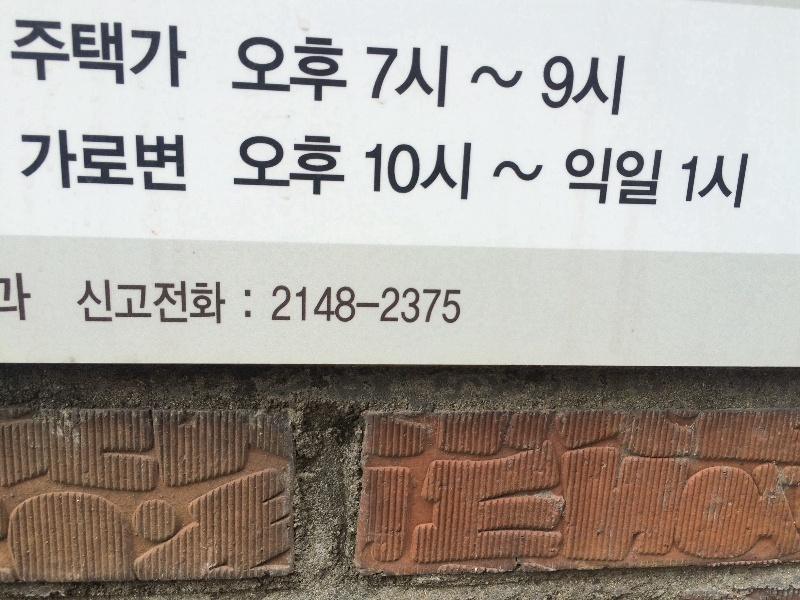text: (241, 29, 256, 105), (257, 29, 272, 105), (273, 29, 288, 105), (289, 29, 304, 105), (305, 29, 320, 105), (321, 29, 336, 105), (369, 43, 384, 117), (385, 43, 400, 117), (401, 43, 416, 117), (417, 43, 432, 117), (433, 43, 448, 117), (449, 43, 464, 117), (465, 43, 480, 117), (481, 43, 496, 117), (497, 43, 512, 117), (513, 43, 528, 117), (529, 43, 544, 117), (545, 43, 560, 117), (561, 43, 576, 117), (577, 43, 592, 117), (593, 43, 608, 117), (609, 43, 624, 117), (17, 19, 32, 91), (33, 19, 48, 91), (49, 19, 64, 91), (65, 19, 80, 91), (81, 19, 96, 91), (97, 19, 112, 91), (113, 19, 128, 91), (129, 19, 144, 91), (145, 19, 160, 91), (161, 19, 176, 91), (369, 141, 384, 212), (385, 141, 400, 212), (401, 141, 416, 212), (417, 141, 432, 212), (433, 141, 448, 212), (449, 141, 464, 212), (465, 141, 480, 212), (481, 141, 496, 212), (497, 141, 512, 212), (513, 141, 528, 212), (529, 141, 544, 212), (545, 141, 560, 212), (561, 141, 576, 212), (577, 141, 592, 212), (593, 141, 608, 212), (609, 141, 624, 212), (625, 141, 640, 212), (641, 141, 656, 212), (657, 141, 672, 212), (673, 141, 688, 212), (689, 141, 704, 212), (705, 141, 720, 212), (721, 141, 736, 212), (737, 141, 751, 212), (33, 128, 48, 194), (49, 128, 64, 194), (65, 128, 80, 194), (81, 128, 96, 194), (97, 128, 112, 194), (113, 128, 128, 194), (129, 128, 144, 194), (145, 128, 160, 194), (161, 128, 176, 194), (241, 134, 256, 200), (257, 134, 272, 200), (273, 134, 288, 200), (289, 134, 304, 200), (305, 134, 320, 200), (321, 134, 336, 200), (20, 128, 32, 194), (337, 29, 347, 105), (1, 273, 16, 322), (17, 273, 32, 322), (177, 128, 188, 194), (177, 19, 187, 91), (81, 279, 96, 327), (97, 279, 112, 327), (113, 279, 128, 327), (129, 279, 144, 327), (145, 279, 160, 327), (161, 279, 176, 327), (177, 279, 192, 327), (193, 279, 208, 327), (209, 279, 224, 327), (231, 29, 240, 105), (337, 134, 347, 200), (273, 287, 288, 326), (289, 287, 304, 326), (305, 287, 320, 326), (321, 287, 336, 326), (337, 287, 352, 326), (353, 287, 368, 326), (369, 287, 384, 326), (385, 287, 400, 326), (401, 287, 416, 326), (417, 287, 432, 326), (433, 287, 448, 326), (449, 287, 463, 326), (9, 19, 16, 91), (245, 288, 256, 320), (235, 134, 240, 200), (365, 141, 368, 212), (625, 43, 627, 117), (77, 279, 80, 327), (225, 279, 227, 327), (367, 43, 368, 117), (33, 273, 34, 322)
